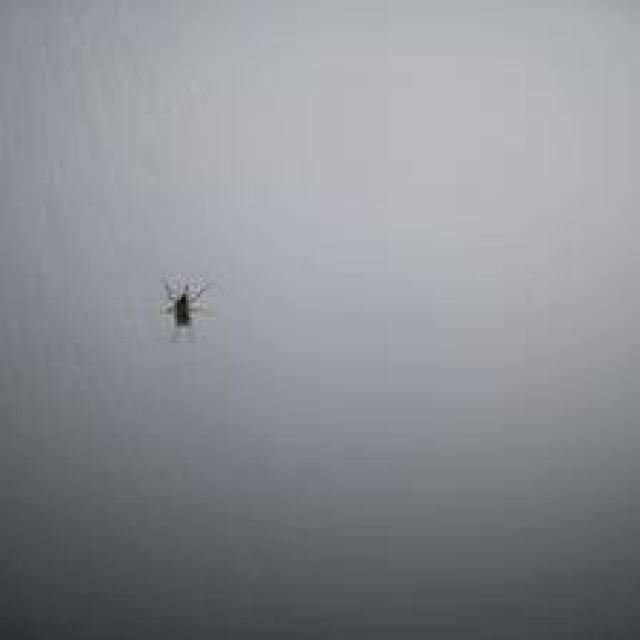Culex: (160, 273, 209, 324)
